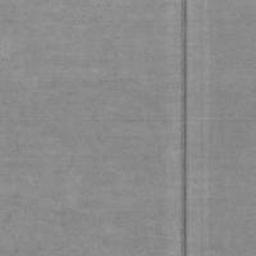Welding line: (182, 0, 187, 256)
